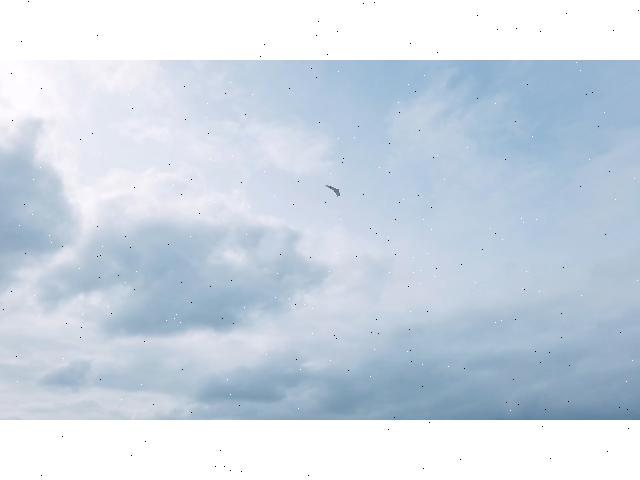Anti-Drone: (324, 184, 342, 199)
